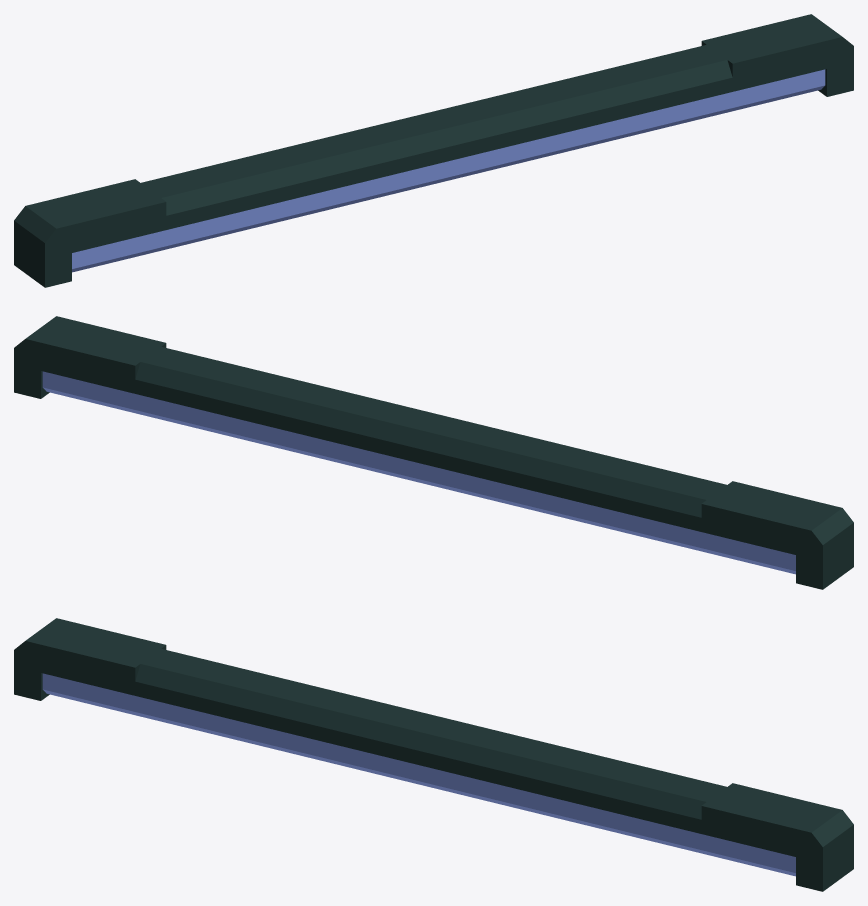
File: Scifi2_Tubelight_A.fbx
3 views of the same model, one above another, from view 1: azimuth 30°, elevation 25°; view 2: azimuth 150°, elevation 25°; view 3: azimuth 330°, elevation 25° (orthographic).
Parts seen in each view (by area): view 1: Light; view 2: Light; view 3: Light.
Boxes of the visible parts, bbox=[...] form: Light: bbox=[14, 14, 853, 287]; Light: bbox=[14, 316, 853, 589]; Light: bbox=[14, 618, 853, 891].
Bounding box in the file's own units: 600 × 40 × 40.
